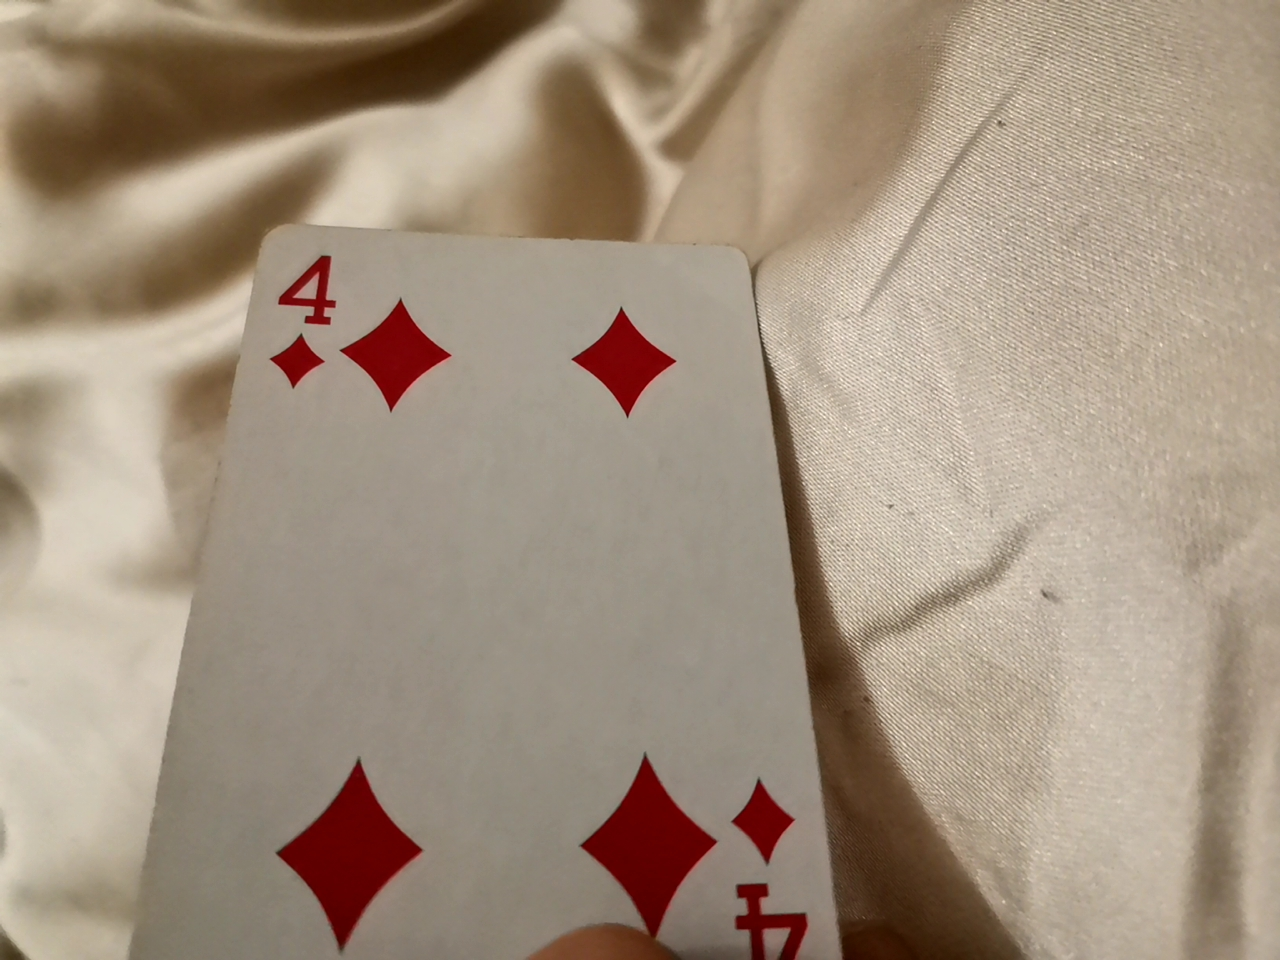fk 4: (136, 202, 872, 959)
